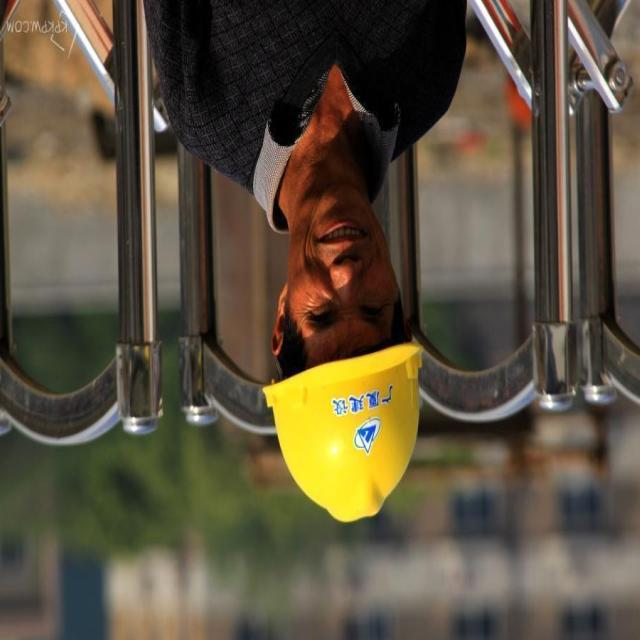helmet: (258, 349, 434, 531)
